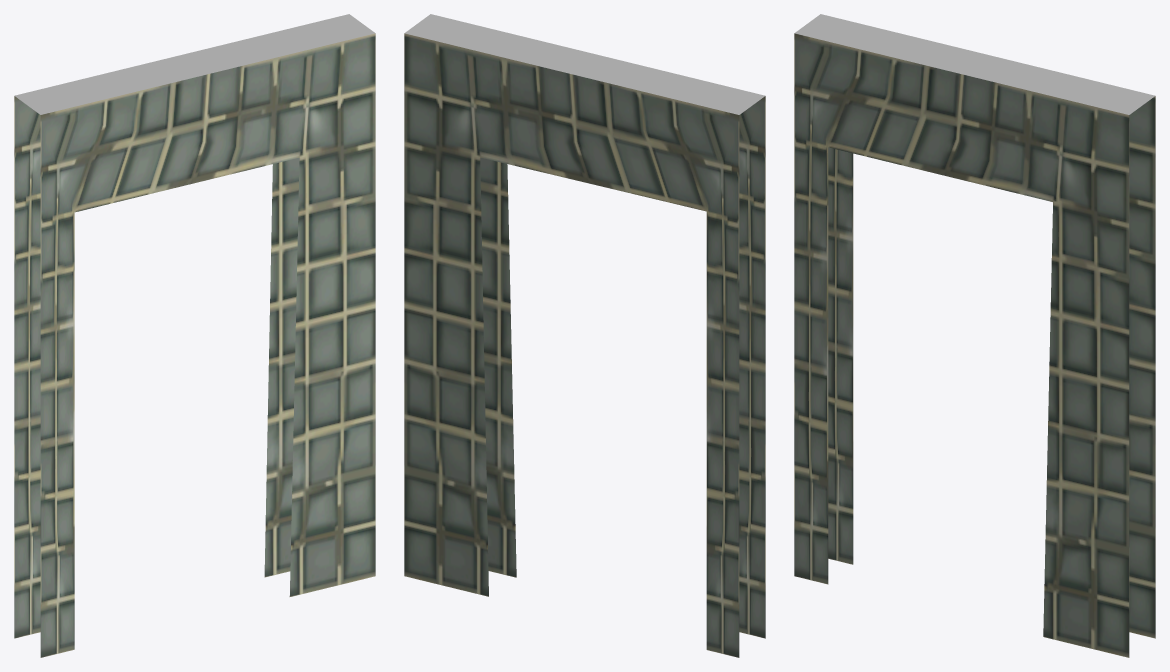
Rendered from W_I2_o [TürkiseFliesen2]_1308.glb.
3 views of the same model, side by side, from view 1: azimuth 30°, elevation 25°; view 2: azimuth 150°, elevation 25°; view 3: azimuth 330°, elevation 25° (orthographic).
Parts seen in each view (by area): view 1: pPlaneShape2, pPlaneShape3, pPlaneShape1; view 2: pPlaneShape3, pPlaneShape2, pPlaneShape1; view 3: pPlaneShape2, pPlaneShape3, pPlaneShape1.
Boxes of the visible parts, <box> form: pPlaneShape2: <box>40,33,375,657</box>; pPlaneShape3: <box>14,96,299,638</box>; pPlaneShape1: <box>14,14,375,114</box>; pPlaneShape3: <box>404,33,739,657</box>; pPlaneShape2: <box>480,96,765,638</box>; pPlaneShape1: <box>405,14,765,114</box>; pPlaneShape2: <box>794,33,1129,657</box>; pPlaneShape3: <box>828,96,1155,638</box>; pPlaneShape1: <box>795,14,1155,114</box>.
Bounding box in the file's own units: 0.2252 × 0.3486 × 0.0308.
3 materials, 2 textured.
